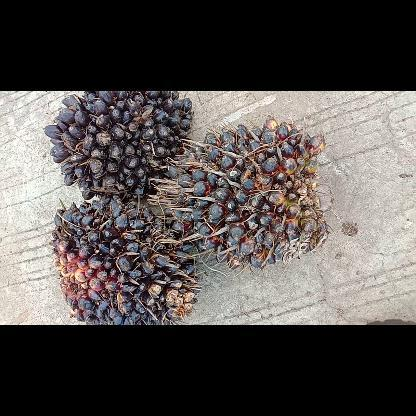TBS mentah: (152, 116, 332, 270), (48, 192, 202, 324), (38, 91, 196, 205)
